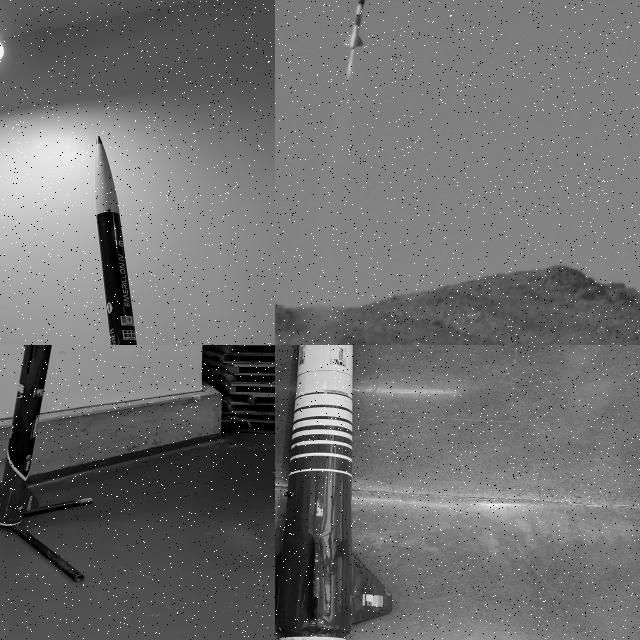Rocket: (275, 345, 393, 640), (0, 345, 52, 526), (94, 135, 137, 345), (343, 0, 371, 50)
